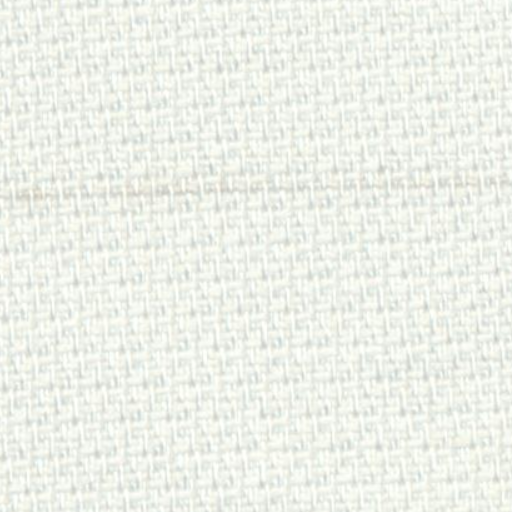WuZi: (16, 175, 478, 203)
